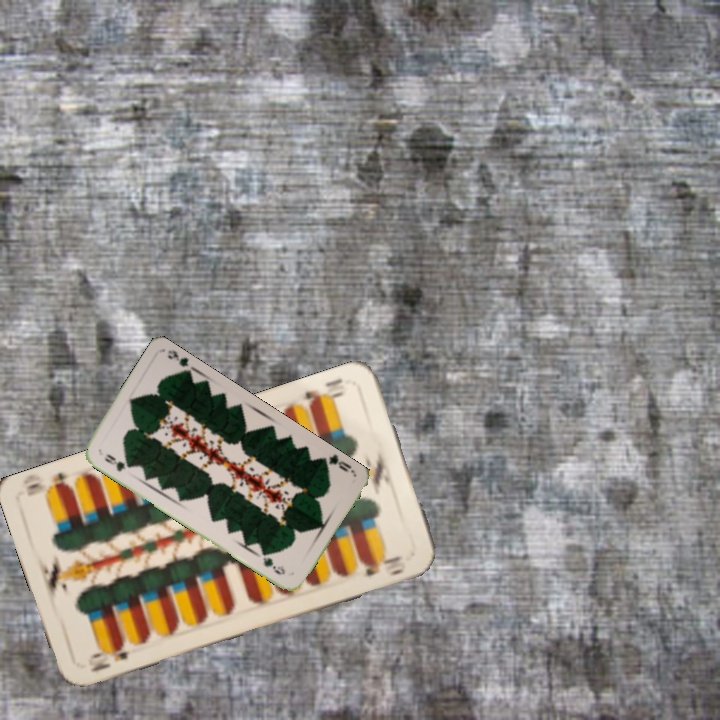E10: (84, 641, 134, 675), (300, 386, 347, 411)
G9: (318, 451, 357, 475), (101, 450, 133, 474)
